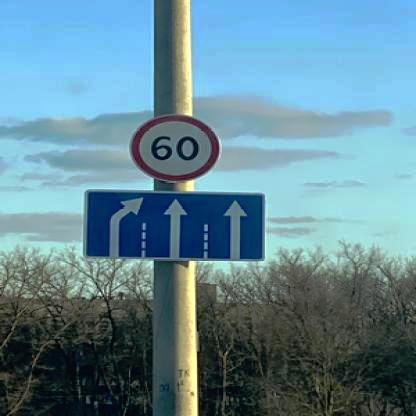Speed Limit -60-: (129, 112, 220, 183)
